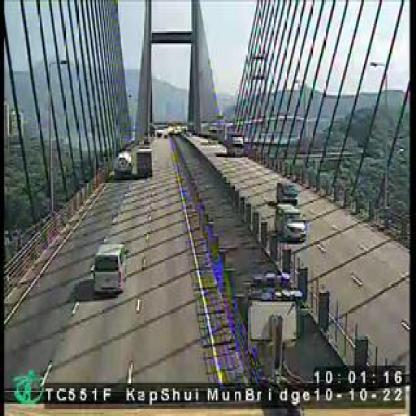Car: (92, 240, 134, 293), (276, 205, 308, 240), (277, 180, 297, 206)
Truck: (136, 147, 154, 177), (226, 132, 245, 158), (114, 150, 130, 180)
